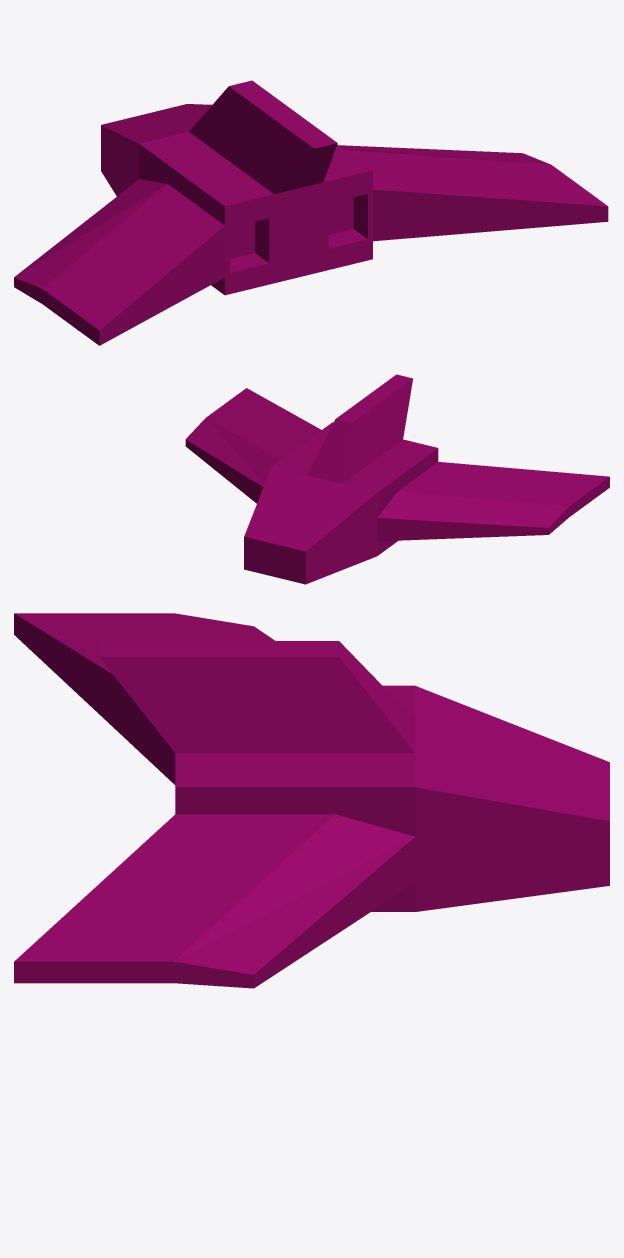
File: exportfbx.fbx
3 views of the same model, one above another, from view 1: azimuth 30°, elevation 25°; view 2: azimuth 150°, elevation 25°; view 3: azimuth 270°, elevation 25° (orthographic). The views are drawn at different scales.
Parts seen in each view (by area): view 1: pCube2; view 2: pCube2; view 3: pCube2.
Boxes of the visible parts, x1,y1,x2,y2 form: pCube2: [14, 80, 608, 345]; pCube2: [185, 374, 609, 584]; pCube2: [14, 613, 609, 988].
Size of the model in its own units: 4.54 by 1.43 by 2.48.
